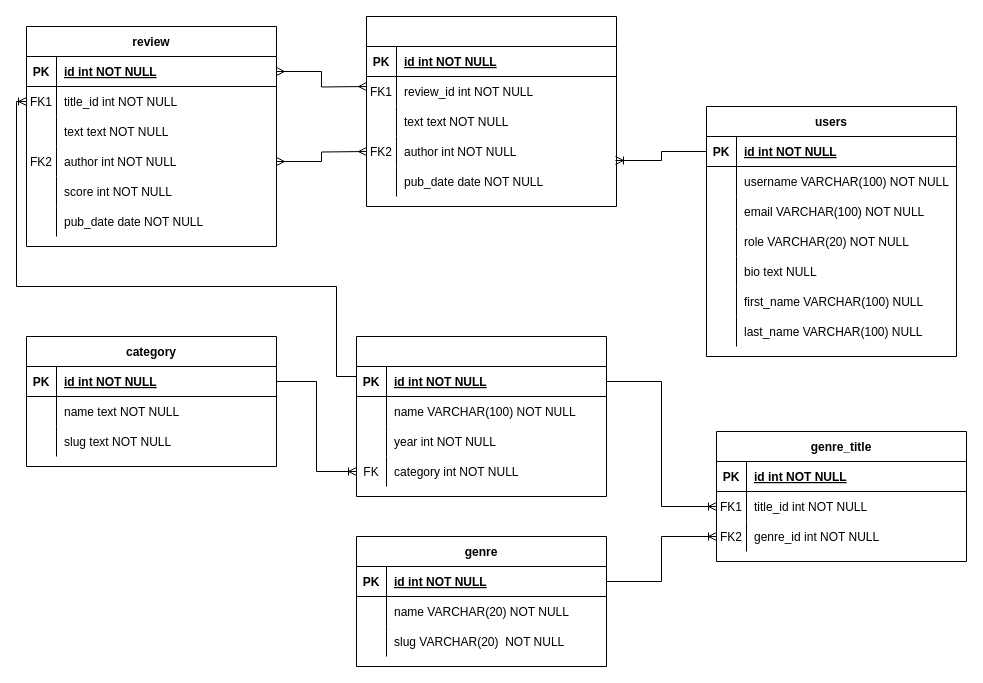
Image size: 983x683. Some labels were removed from this diagram. Each missing label, with the box of its shape:
comments: (366, 16, 616, 206)
titles: (356, 336, 606, 496)
